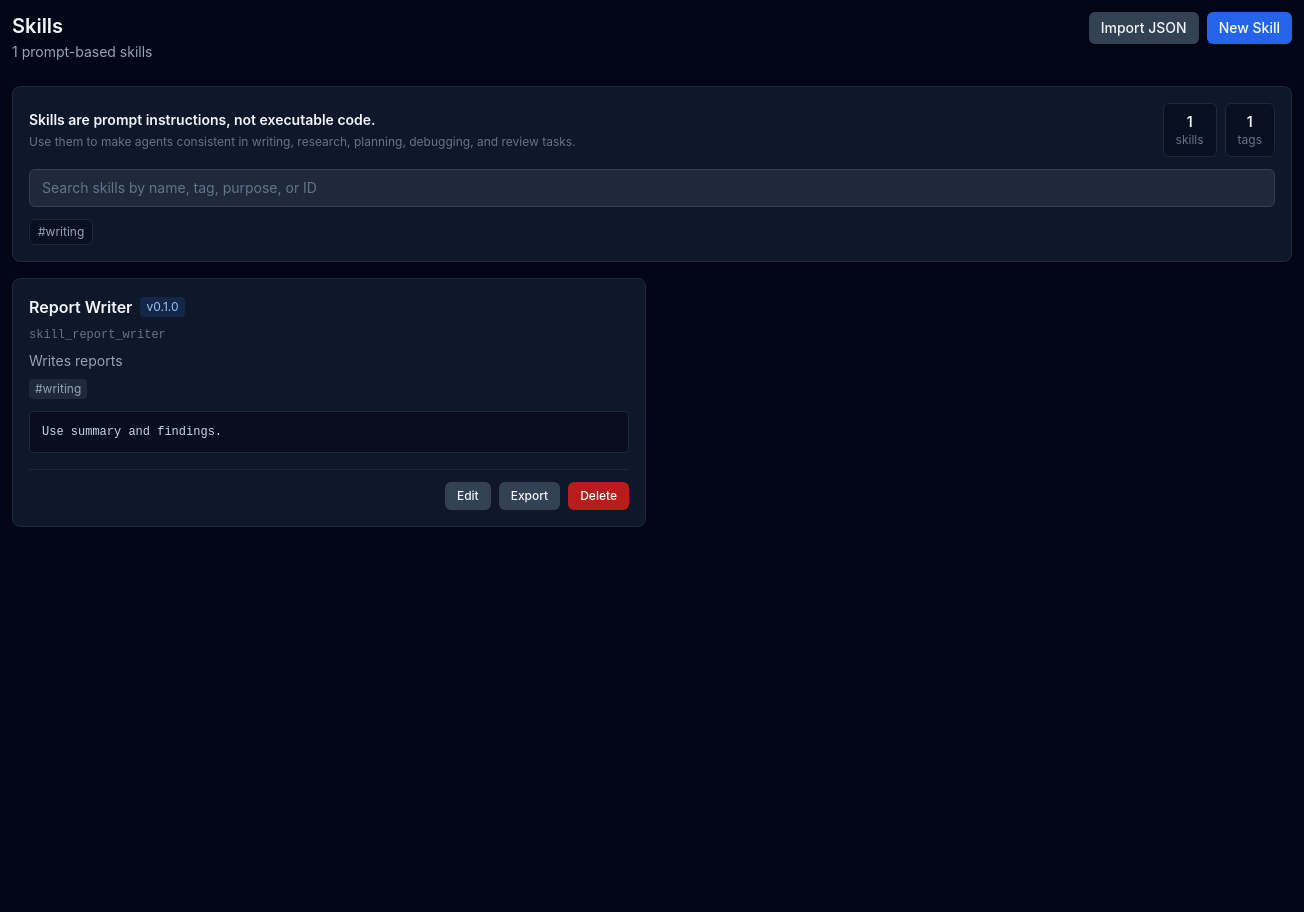
Test: Skills page › keeps JSON import collapsed until requested
The width and height of the screenshot is (1304, 912).
Expected: the text "Report Writer" is shown, [29, 295, 132, 319]
Expected: the field with placeholder "Paste exported skill JSON here" is not shown
Click the button "Import JSON": click(1144, 28) [1089, 12, 1199, 44]
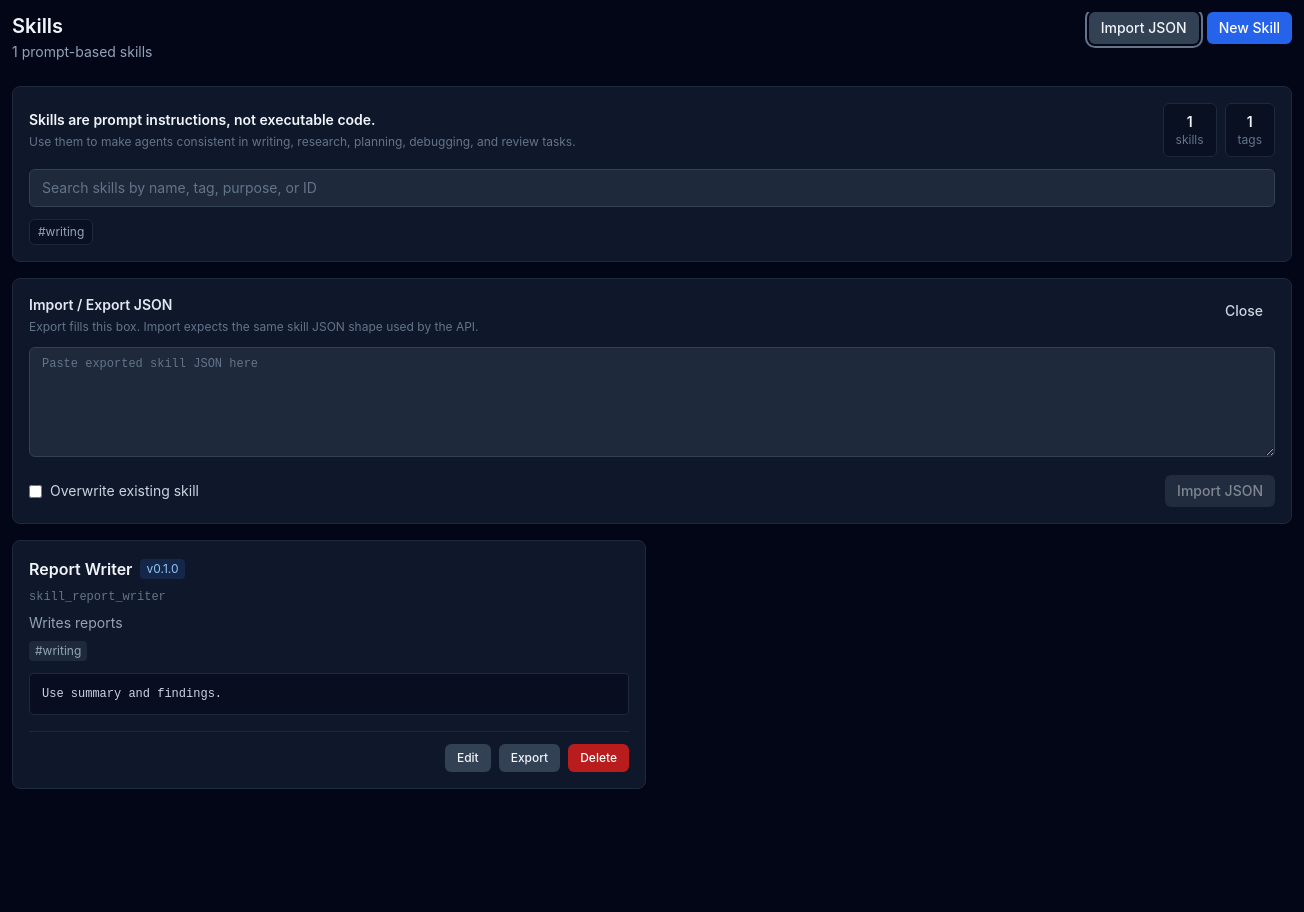
Result: the text box with placeholder "Paste exported skill JSON here" is shown at [29, 347, 1275, 457]
